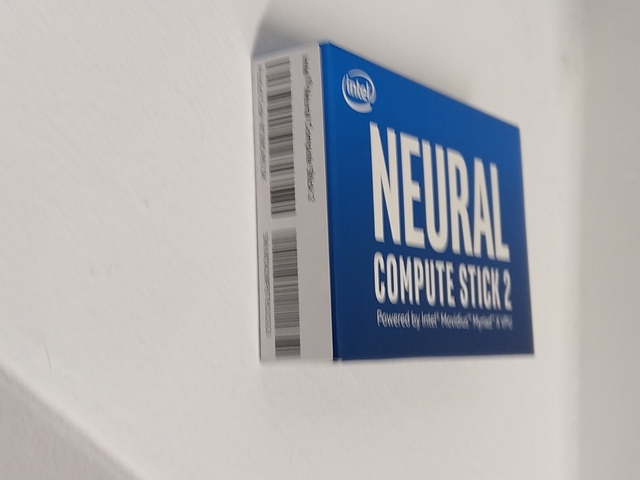box: (250, 40, 538, 367)
